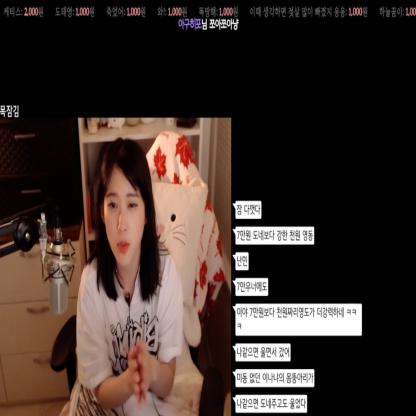streamer: (75, 133, 182, 416)
